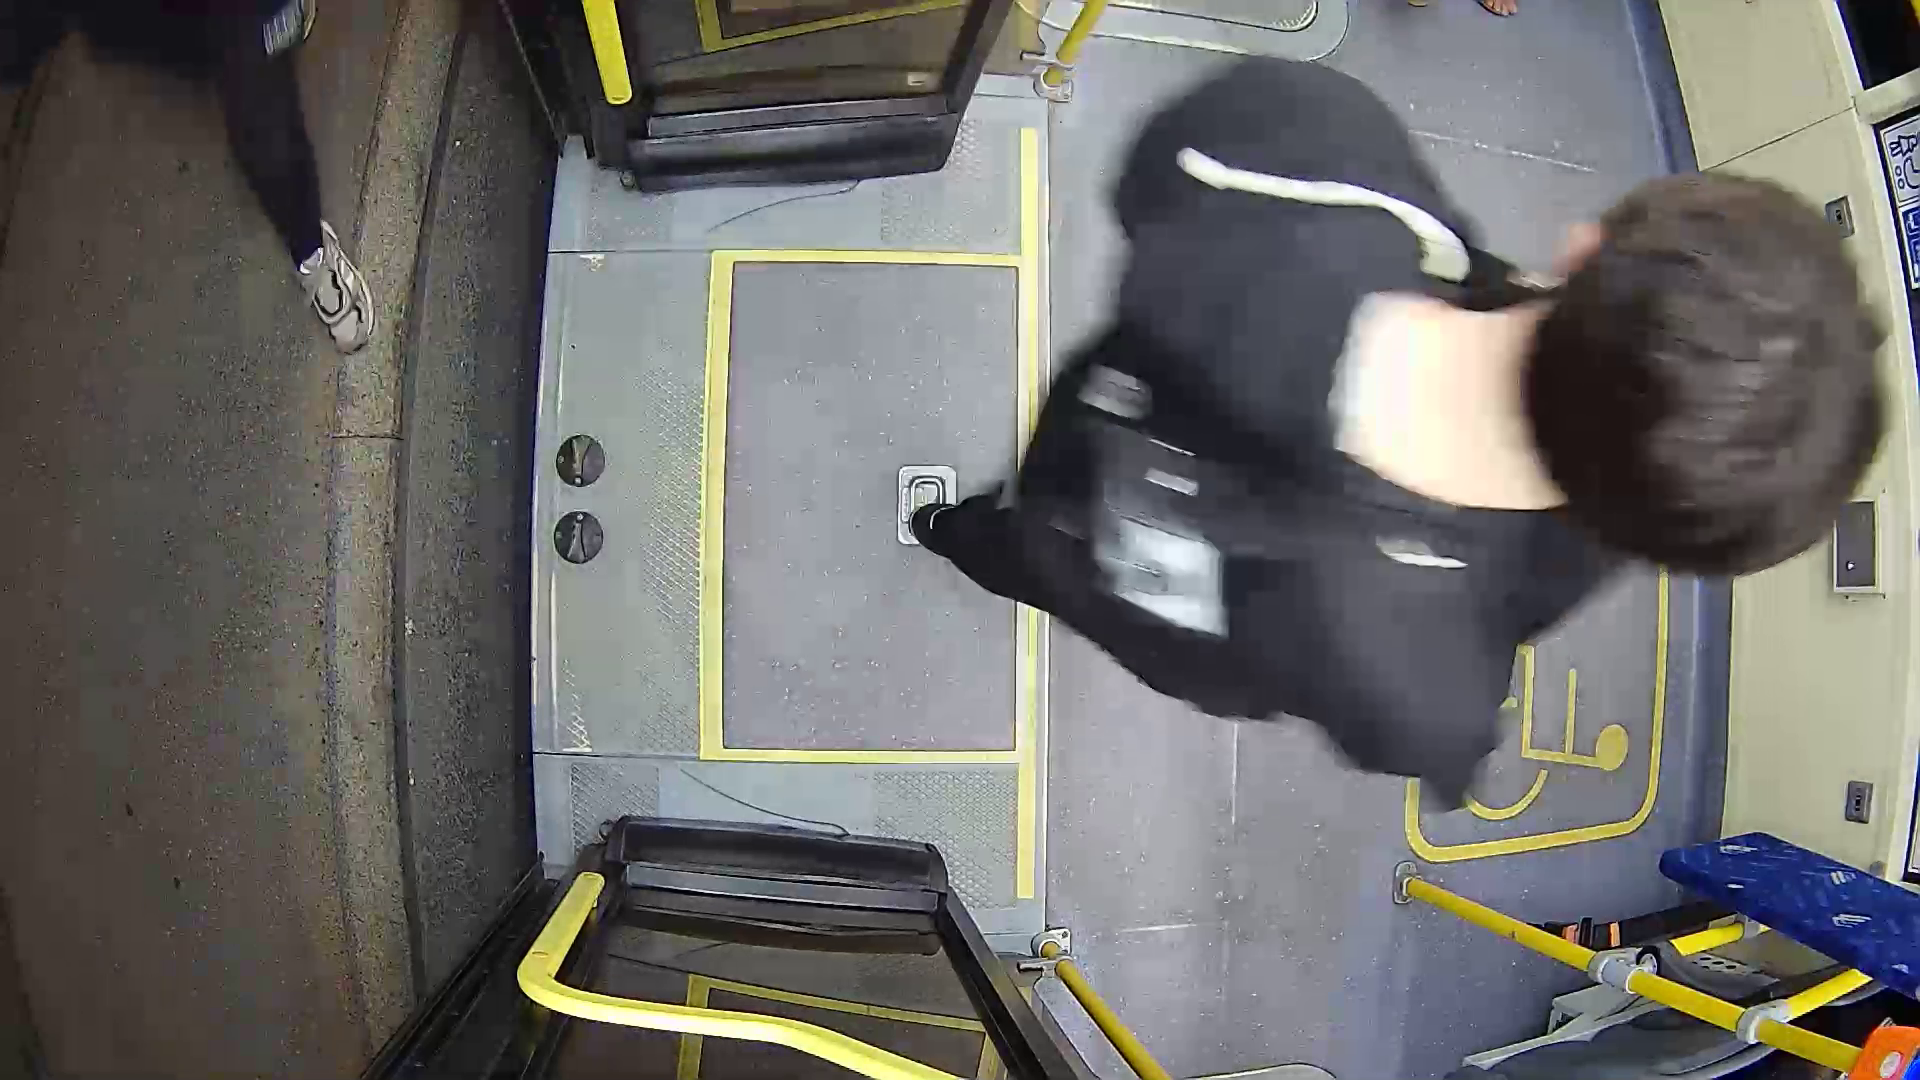person: (996, 68, 1873, 831)
